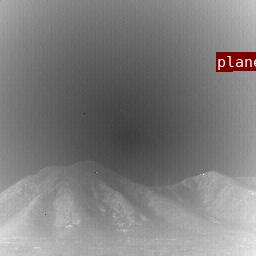plane: (216, 52, 232, 71)
